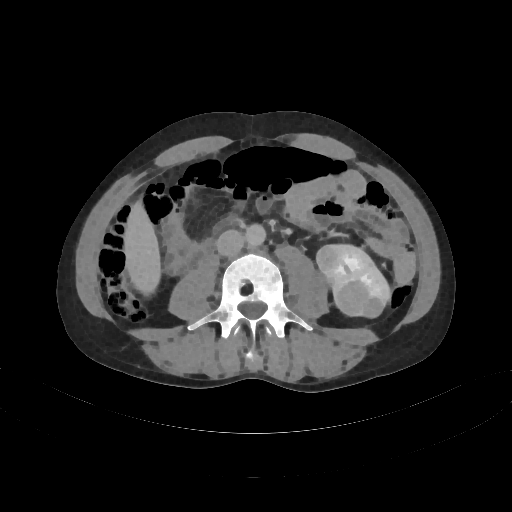Lesion: (362, 297, 384, 320)
